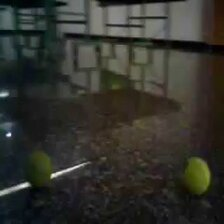tennis: (181, 158, 212, 196), (22, 154, 53, 188)
